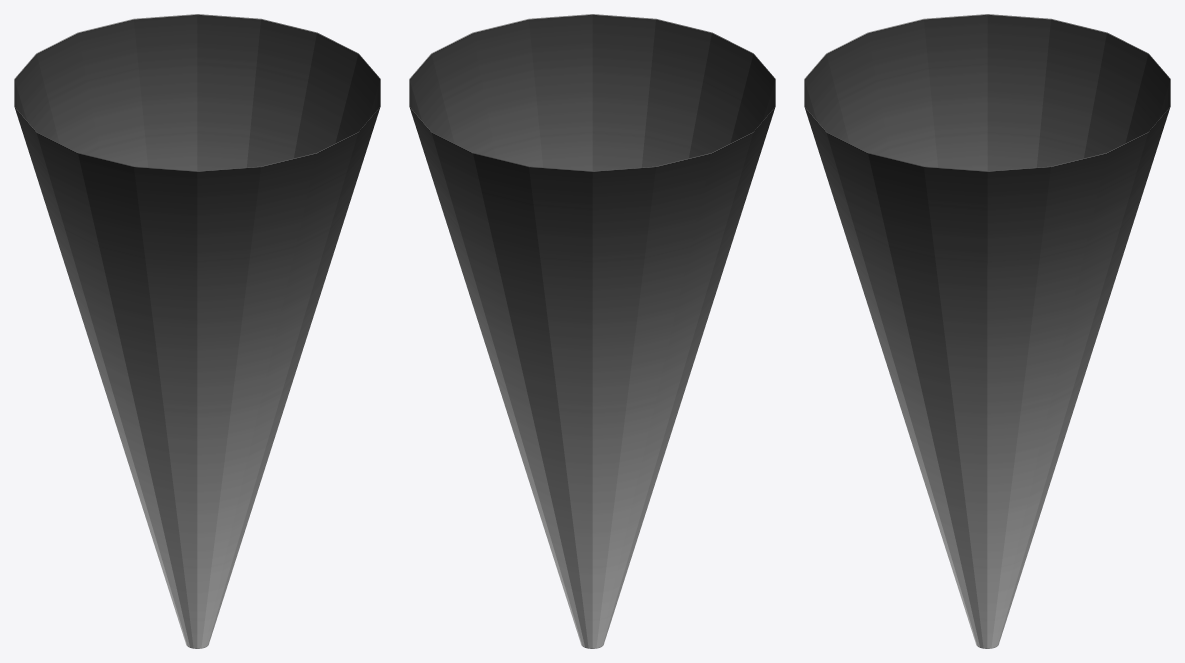
Rendered from 0042_HT_FX_GouHunYan_gouhunyan_Mesh_deng6.glb.
The picture shows the model from 3 angles, left to right: view 1: azimuth 30°, elevation 25°; view 2: azimuth 150°, elevation 25°; view 3: azimuth 270°, elevation 25°; orthographic projection.
Bounding box in the file's own units: 1.35 × 2.2 × 1.32.
Materials: 1 (1 with a texture image).
